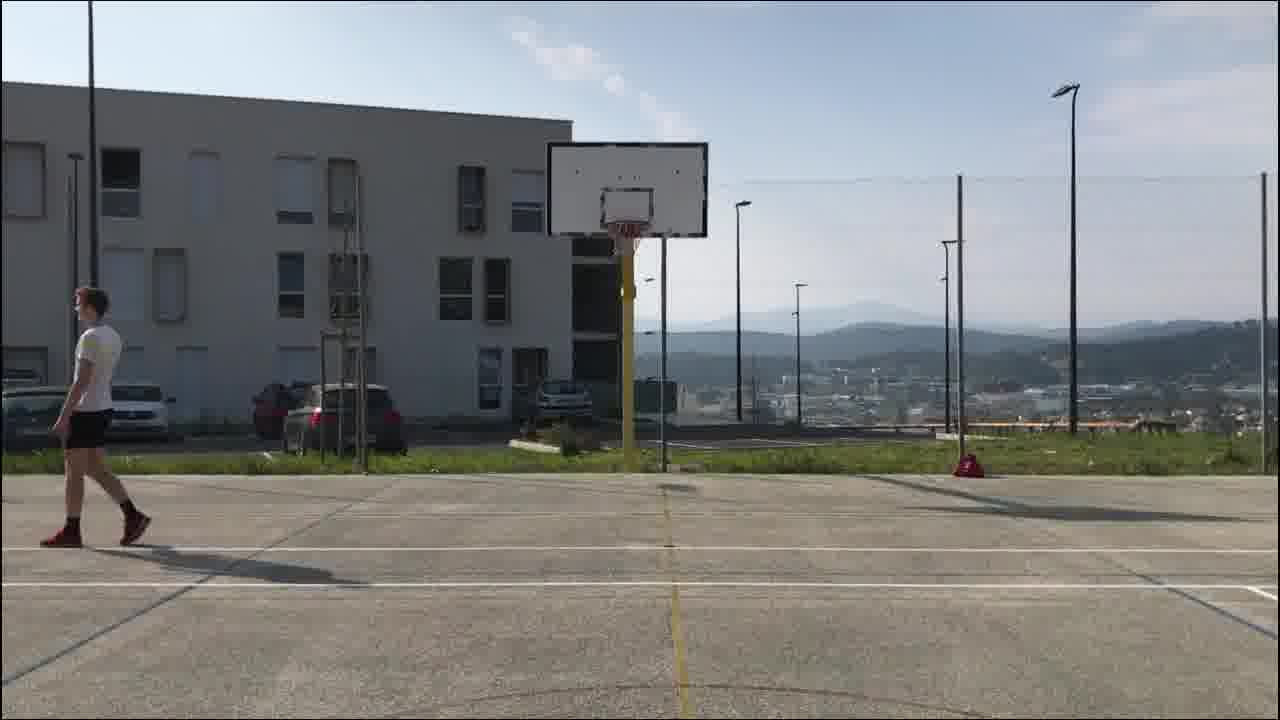jugador: (32, 274, 158, 562)
